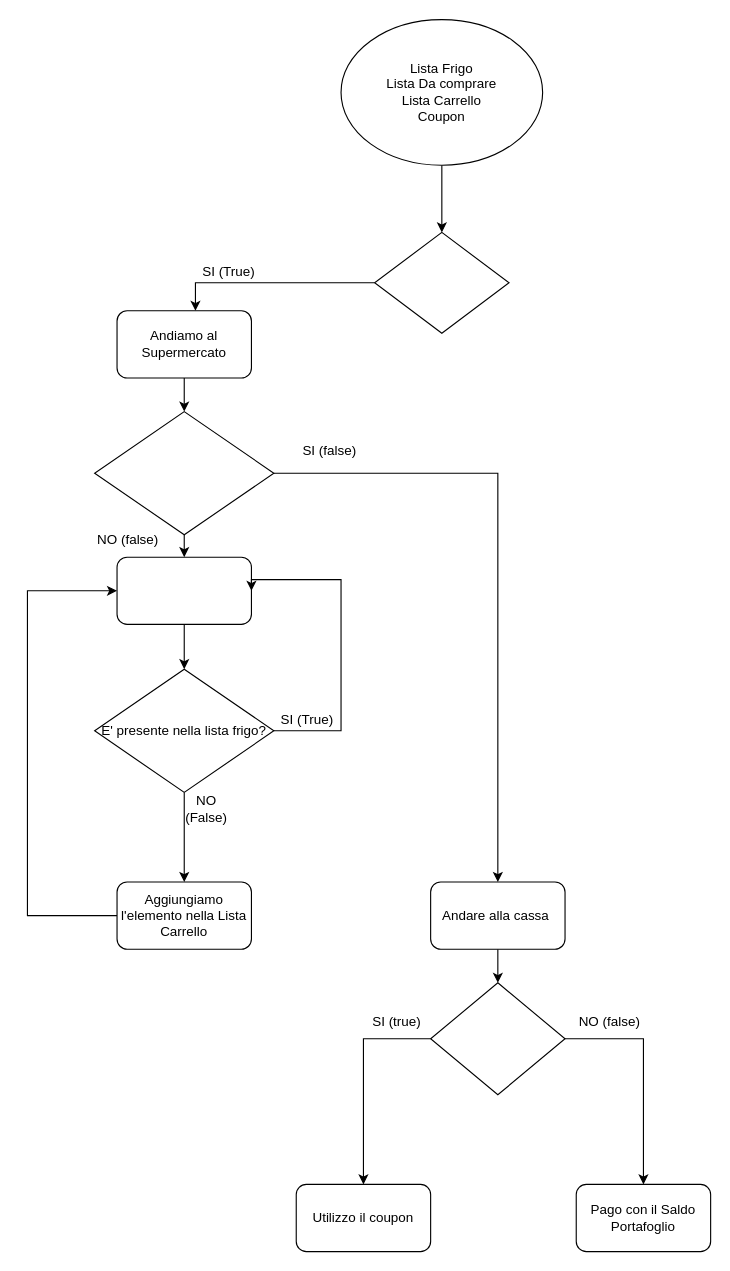
This 730x1271 diagram has some shape labels left out. Each missing label, with the box of its shape:
Controlllare se la lista Da comprare è finita: (94, 410, 274, 535)
Lista Frigo < X: (374, 231, 509, 333)
Prendiamo un elemento in ordine dalla lista Da Comprare: (116, 556, 251, 624)
Se ho almeno un coupon: (430, 982, 565, 1095)
